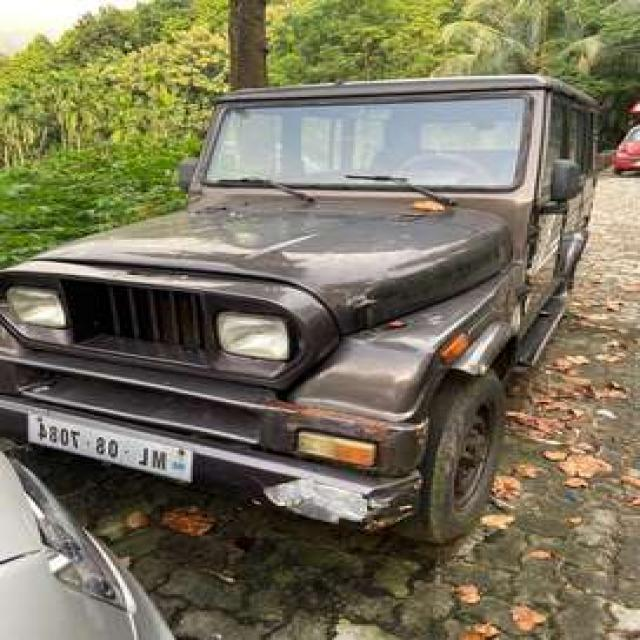license_plate: (15, 402, 202, 488)
